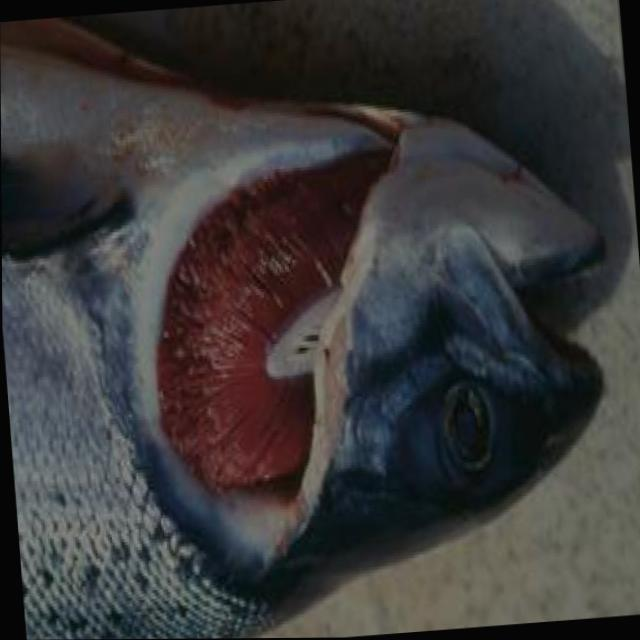Gill Disease: (140, 82, 542, 587)
